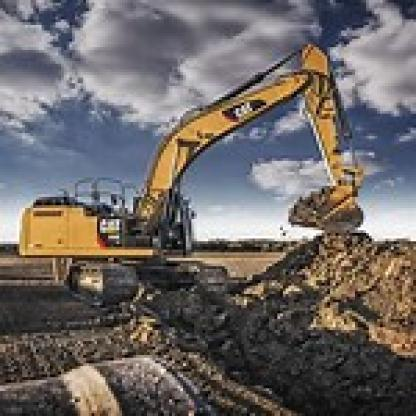excavator: (17, 14, 394, 369)
